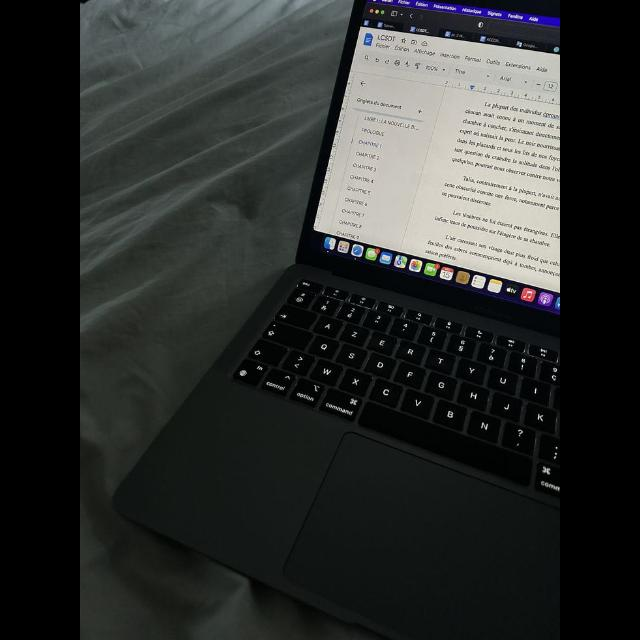laptop: (115, 0, 560, 639)
